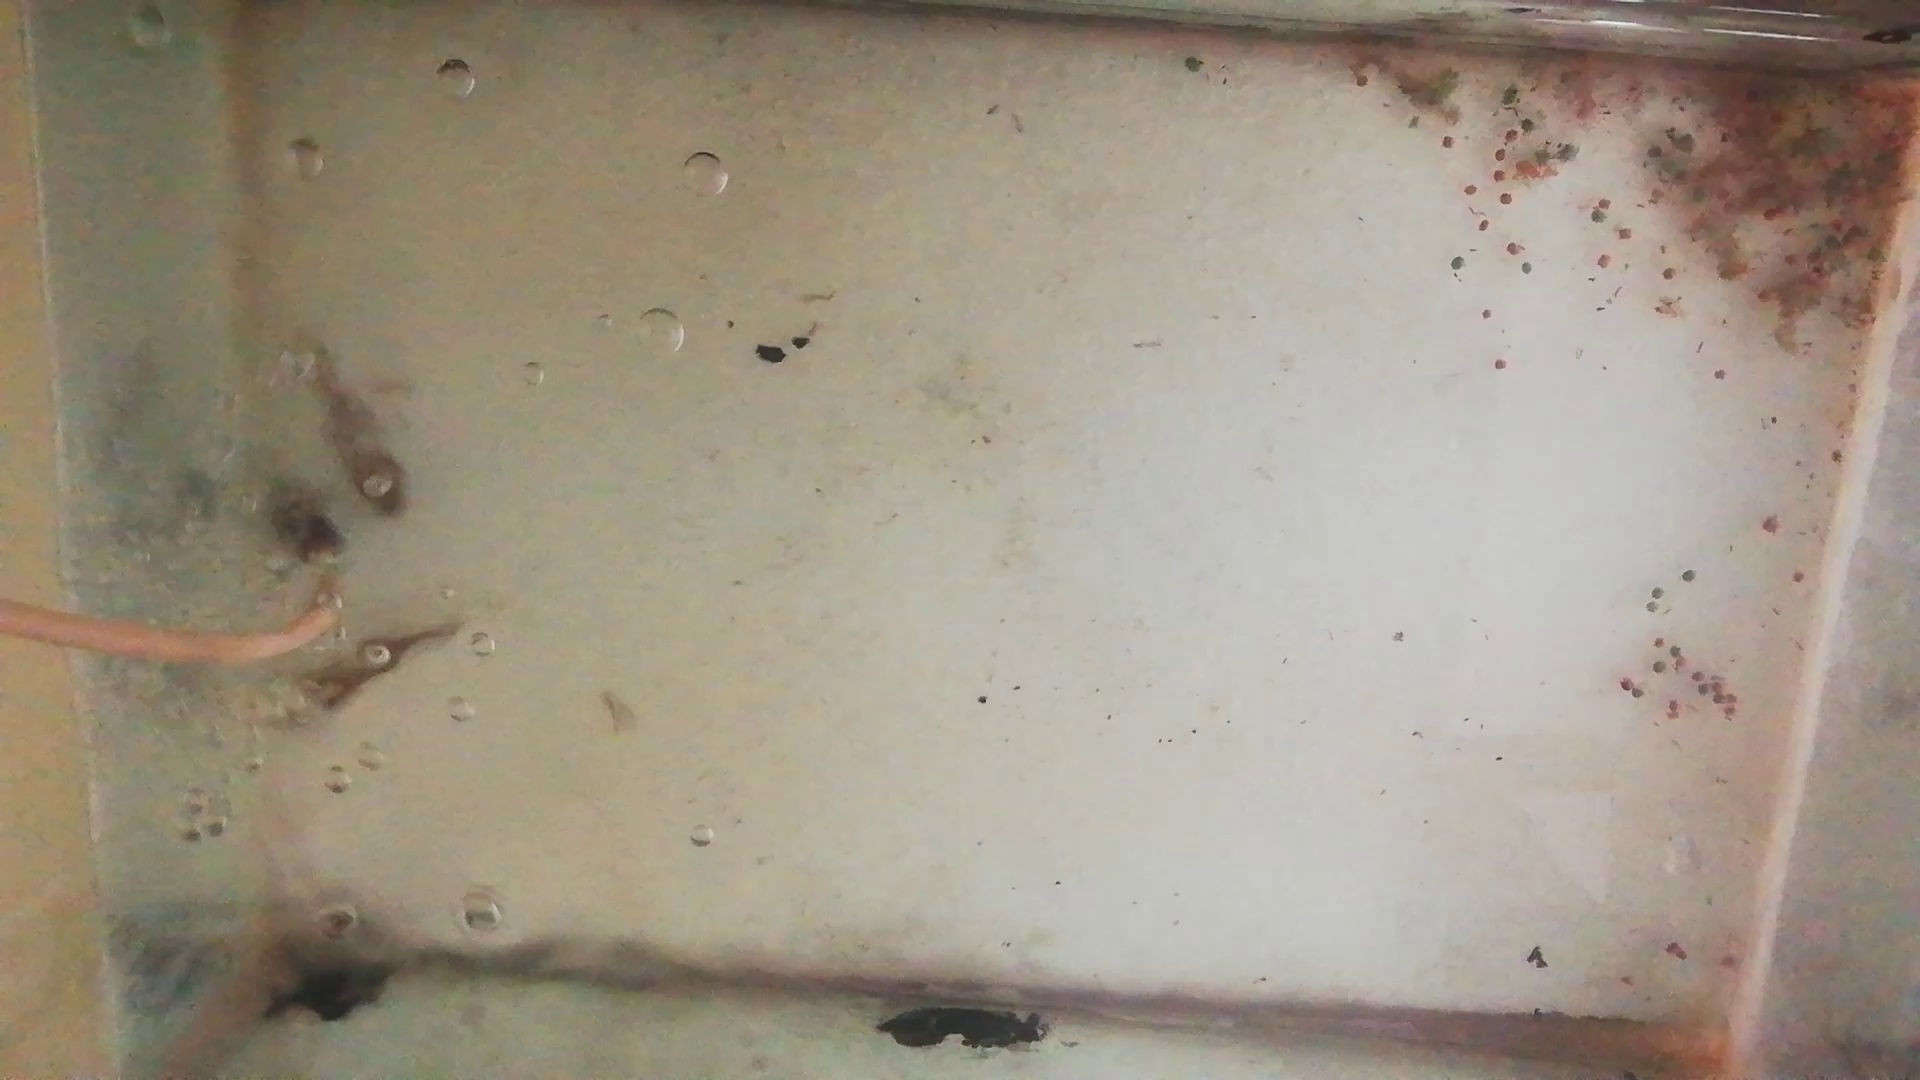fish: (295, 326, 407, 520), (303, 621, 464, 713)
